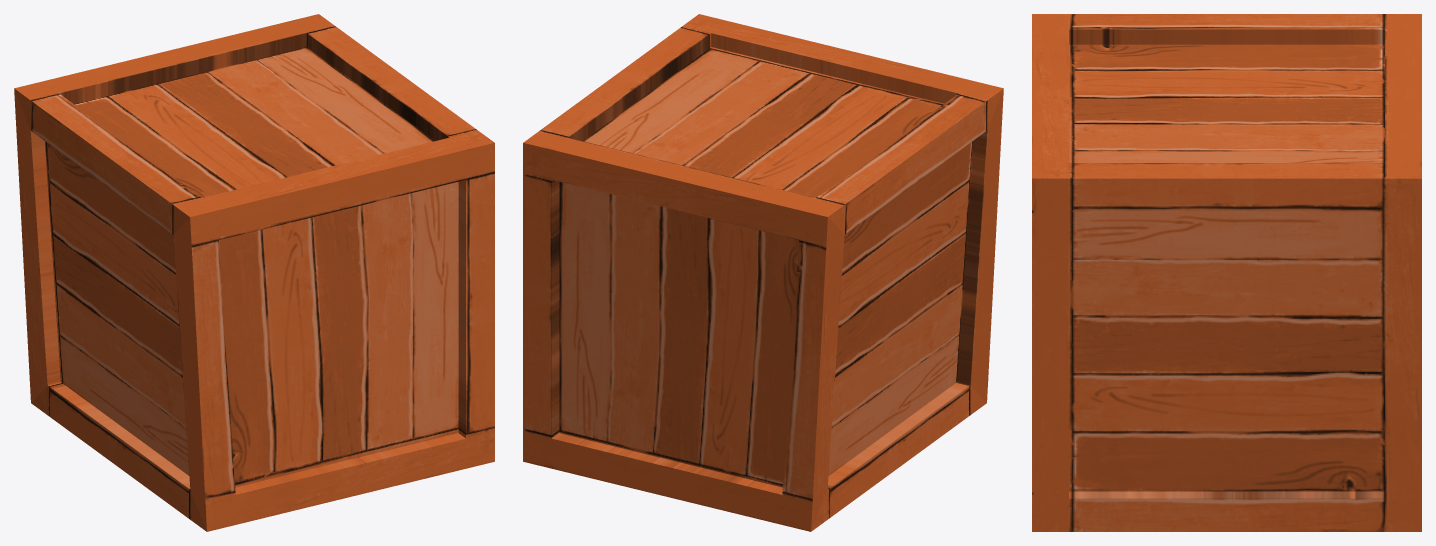
Rendered from box_wood.fbx.
3 views of the same model, side by side, from view 1: azimuth 30°, elevation 25°; view 2: azimuth 150°, elevation 25°; view 3: azimuth 270°, elevation 25° (orthographic). The views are drawn at different scales.
Parts seen in each view (by area): view 1: wooden_box; view 2: wooden_box; view 3: wooden_box.
Boxes of the visible parts, x1,y1,x2,y2 form: wooden_box: [14, 14, 494, 531]; wooden_box: [523, 14, 1003, 531]; wooden_box: [1032, 14, 1421, 531].
Size of the model in its own units: 0.8 by 0.8 by 0.8.
